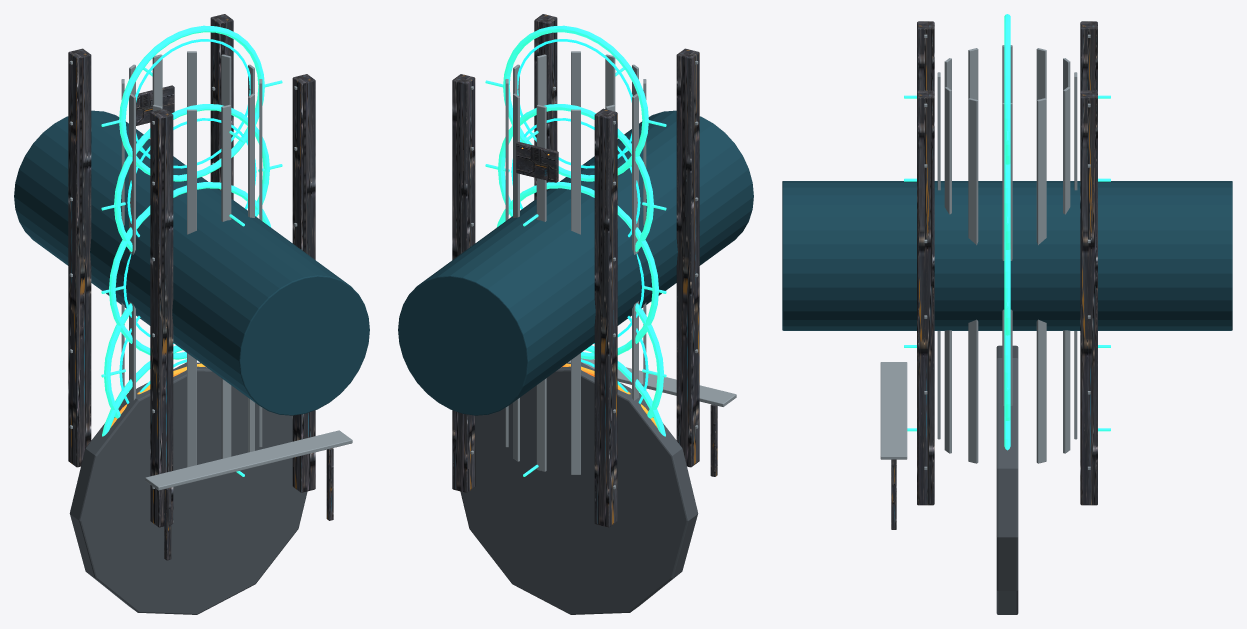
The model's file is resonance_reactor_tower.glb.
The picture shows the model from 3 angles, left to right: view 1: azimuth 30°, elevation 25°; view 2: azimuth 150°, elevation 25°; view 3: azimuth 270°, elevation 25°; orthographic projection.
Parts seen in each view (by area): view 1: Reactor/inner_vessel, Foundation/base, Tower/support_-4.9_-4.9, Tower/support_-4.9_4.9, Tower/support_4.9_4.9, Service/platform, EnergyRing/4, Tower/support_4.9_-4.9, Reactor/vertical_fin_120, Reactor/vertical_fin_90, EnergyRing/3, EnergyRing/2 (+12 smaller); view 2: Reactor/inner_vessel, Foundation/base, Tower/support_-4.9_-4.9, Tower/support_-4.9_4.9, Tower/support_4.9_-4.9, EnergyRing/4, Reactor/vertical_fin_240, Tower/support_4.9_4.9, Reactor/vertical_fin_270, EnergyRing/3, EnergyRing/2, Reactor/vertical_fin_180 (+11 smaller); view 3: Reactor/inner_vessel, Tower/support_4.9_4.9, Tower/support_4.9_-4.9, Foundation/base, Reactor/vertical_fin_30, Reactor/vertical_fin_330, Service/platform, Reactor/vertical_fin_60, Reactor/vertical_fin_300, Reactor/vertical_fin_0, Tower/support_-4.9_4.9, Tower/support_-4.9_-4.9 (+3 smaller).
Boxes of the visible parts, left/top/right/bottom form: Reactor/inner_vessel: left=14, top=110, right=369, bottom=415; Foundation/base: left=69, top=362, right=307, bottom=614; Tower/support_-4.9_-4.9: left=68, top=48, right=91, bottom=467; Tower/support_-4.9_4.9: left=150, top=108, right=173, bottom=527; Tower/support_4.9_4.9: left=292, top=74, right=315, bottom=492; Service/platform: left=145, top=430, right=352, bottom=490; EnergyRing/4: left=119, top=25, right=264, bottom=181; Tower/support_4.9_-4.9: left=210, top=14, right=233, bottom=199; Reactor/vertical_fin_120: left=187, top=109, right=196, bottom=467; Reactor/vertical_fin_90: left=221, top=104, right=231, bottom=458; EnergyRing/3: left=114, top=104, right=269, bottom=252; EnergyRing/2: left=109, top=182, right=271, bottom=359; Reactor/inner_vessel: left=398, top=110, right=753, bottom=415; Foundation/base: left=460, top=362, right=698, bottom=614; Tower/support_-4.9_-4.9: left=594, top=108, right=617, bottom=527; Tower/support_-4.9_4.9: left=676, top=48, right=699, bottom=467; Tower/support_4.9_-4.9: left=452, top=74, right=475, bottom=492; EnergyRing/4: left=503, top=25, right=648, bottom=181; Reactor/vertical_fin_240: left=571, top=109, right=580, bottom=474; Tower/support_4.9_4.9: left=534, top=14, right=557, bottom=199; Reactor/vertical_fin_270: left=536, top=104, right=546, bottom=471; EnergyRing/3: left=498, top=104, right=653, bottom=252; EnergyRing/2: left=496, top=182, right=658, bottom=359; Reactor/vertical_fin_180: left=632, top=93, right=638, bottom=400; Reactor/inner_vessel: left=782, top=181, right=1232, bottom=330; Tower/support_4.9_4.9: left=917, top=90, right=934, bottom=505; Tower/support_4.9_-4.9: left=1080, top=90, right=1097, bottom=505; Foundation/base: left=996, top=345, right=1018, bottom=614; Reactor/vertical_fin_30: left=968, top=98, right=978, bottom=463; Reactor/vertical_fin_330: left=1036, top=98, right=1046, bottom=463; Service/platform: left=880, top=362, right=907, bottom=459; Reactor/vertical_fin_60: left=944, top=87, right=951, bottom=453; Reactor/vertical_fin_300: left=1063, top=87, right=1070, bottom=453; Reactor/vertical_fin_0: left=1002, top=103, right=1012, bottom=405; Tower/support_-4.9_4.9: left=917, top=21, right=934, bottom=91; Tower/support_-4.9_-4.9: left=1080, top=21, right=1097, bottom=91.
Bounding box in the file's own units: 16.2 × 38.45 × 27.
7 materials, 1 textured.
